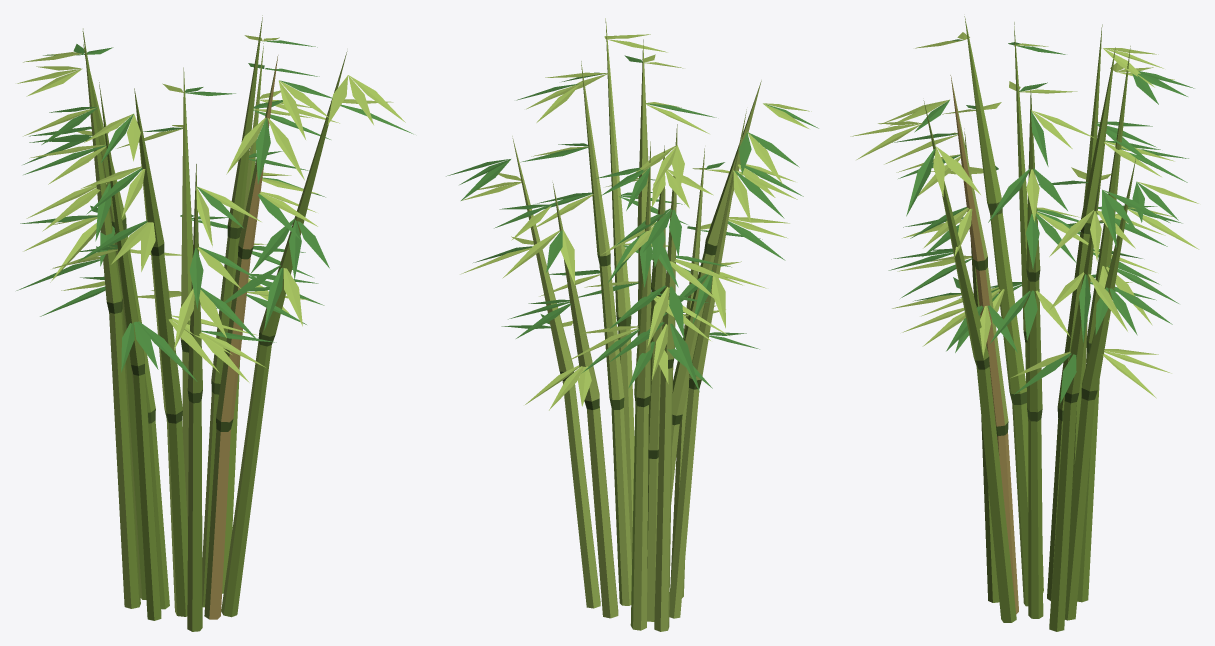
The model's file is bamboo_cluster_b.fbx.
The picture shows the model from 3 angles, left to right: view 1: azimuth 30°, elevation 25°; view 2: azimuth 150°, elevation 25°; view 3: azimuth 270°, elevation 25°; orthographic projection. The views are drawn at different scales.
Visible parts, largest first — view 1: bamboo_cluster_b; view 2: bamboo_cluster_b; view 3: bamboo_cluster_b.
Boxes of the visible parts, x1,y1,x2,y2 form: bamboo_cluster_b: [16, 15, 413, 631]; bamboo_cluster_b: [446, 18, 818, 631]; bamboo_cluster_b: [850, 16, 1199, 631].
Size of the model in its own units: 5.13 by 8.5 by 4.85.
